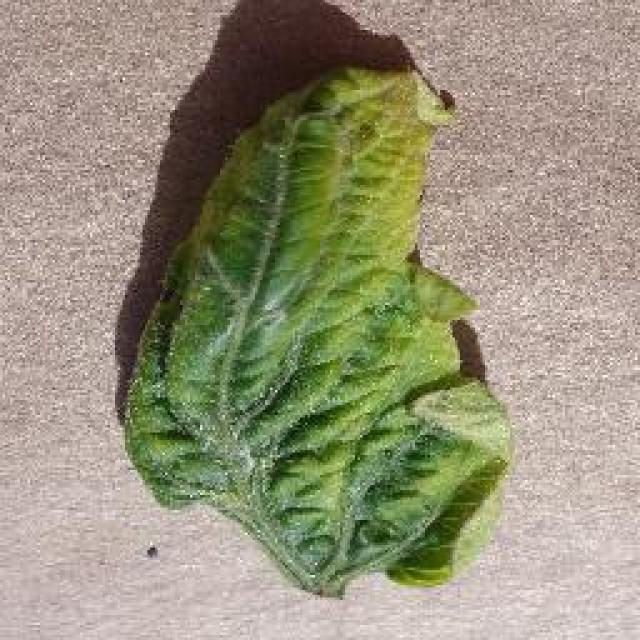Tomato yellow virus leaf: (119, 52, 526, 602)
